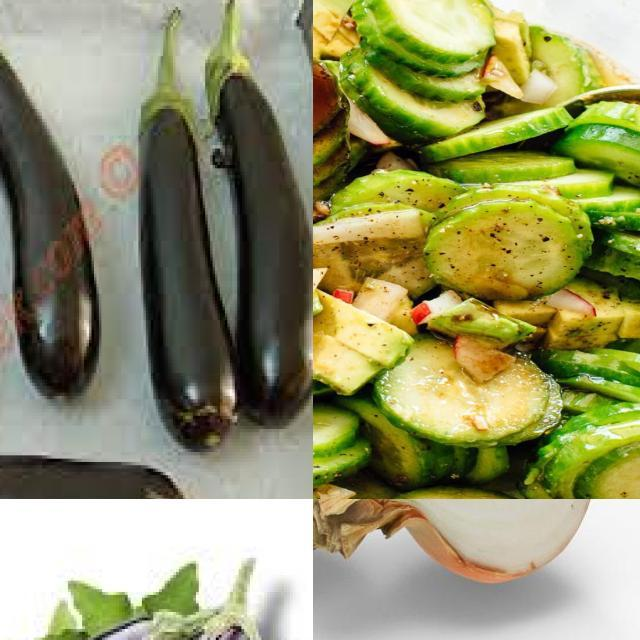cucumber: (565, 128, 640, 201)
eggplant: (203, 50, 314, 420), (134, 77, 236, 447), (1, 7, 94, 393), (1, 450, 196, 500)
onion: (314, 500, 606, 588)
